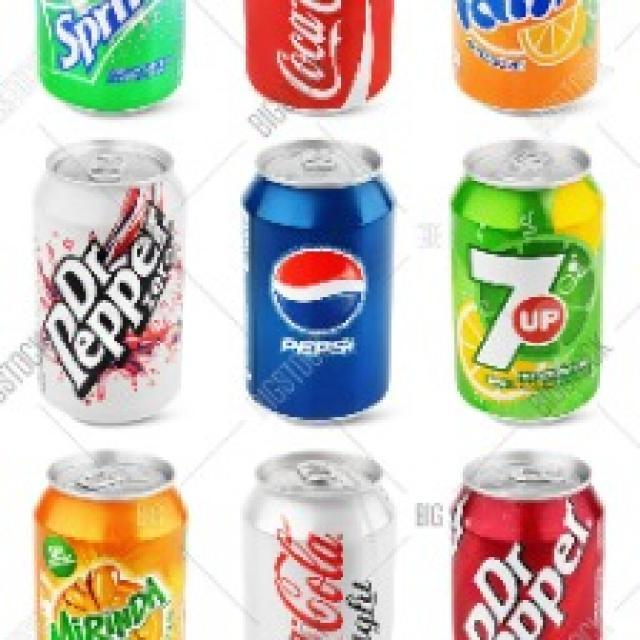metel: (238, 142, 406, 427), (452, 148, 598, 430)
